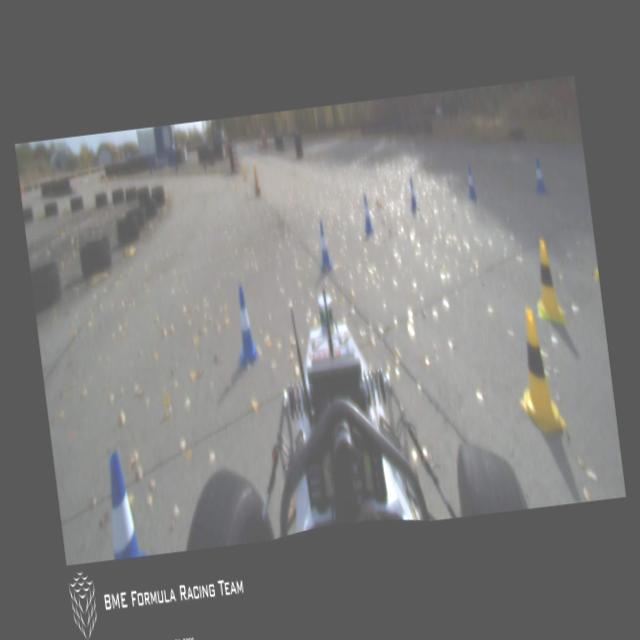blue_cone: (100, 448, 148, 558), (228, 286, 260, 364), (314, 220, 332, 267), (358, 194, 374, 236), (531, 156, 547, 194), (464, 166, 476, 196), (407, 178, 418, 210)
yellow_cone: (508, 304, 566, 433), (528, 239, 565, 323)
